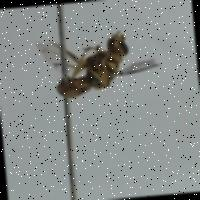Oriental-fruit-fly: (34, 15, 172, 106)
